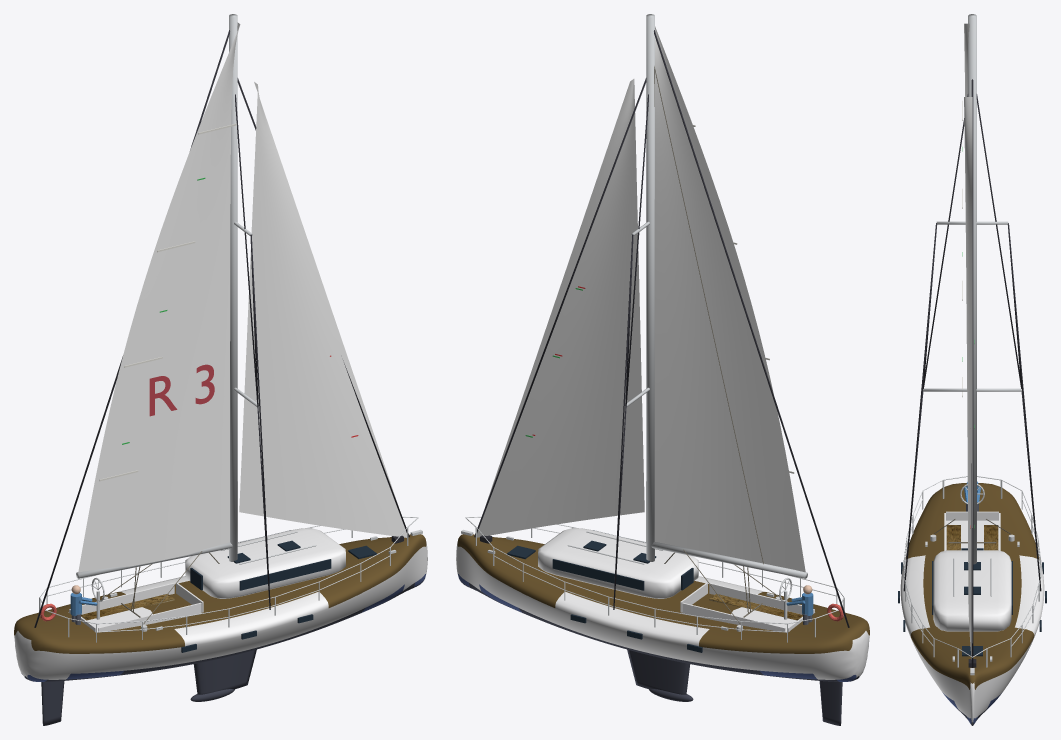
File: regatta_sloop.glb
3 views of the same model, side by side, from view 1: azimuth 30°, elevation 25°; view 2: azimuth 150°, elevation 25°; view 3: azimuth 270°, elevation 25° (orthographic).
Parts seen in each view (by area): view 1: MainSail, Jib, Hull, Cabin, Mast, Rigging, Cockpit, Keel, Deck_Rails, Cabin_Glass, SailNumber, Rudder; view 2: MainSail, Jib, Hull, Cabin, Mast, Rigging, Cockpit, Keel, Deck_Rails, Cabin_Glass, Boom, Running_Rigging (+1 smaller); view 3: Hull, Cabin, Rigging, Jib, Mast, Deck_Rails, Cockpit, Cabin_Glass, Spreaders, MainSail, Deck_Fittings.
Boxes of the visible parts, bbox=[...] form: MainSail: bbox=[78, 22, 240, 572]; Jib: bbox=[239, 82, 406, 537]; Hull: bbox=[14, 534, 427, 681]; Cabin: bbox=[185, 528, 345, 598]; Mast: bbox=[229, 14, 237, 561]; Rigging: bbox=[34, 30, 409, 627]; Cockpit: bbox=[69, 583, 203, 632]; Keel: bbox=[193, 649, 256, 694]; Deck_Rails: bbox=[39, 516, 418, 642]; Cabin_Glass: bbox=[190, 530, 376, 590]; SailNumber: bbox=[149, 364, 214, 416]; Rudder: bbox=[41, 681, 64, 725]; MainSail: bbox=[646, 26, 805, 572]; Jib: bbox=[477, 79, 644, 537]; Hull: bbox=[456, 534, 869, 681]; Cabin: bbox=[538, 528, 698, 598]; Mast: bbox=[646, 14, 654, 561]; Rigging: bbox=[474, 30, 849, 627]; Cockpit: bbox=[680, 583, 814, 632]; Keel: bbox=[627, 649, 690, 694]; Deck_Rails: bbox=[465, 516, 844, 642]; Cabin_Glass: bbox=[507, 530, 693, 590]; Boom: bbox=[651, 542, 807, 578]; Running_Rigging: bbox=[654, 66, 777, 623]; Hull: bbox=[900, 483, 1044, 725]; Cabin: bbox=[933, 550, 1011, 631]; Rigging: bbox=[903, 79, 1041, 667]; Jib: bbox=[964, 97, 972, 659]; Mast: bbox=[968, 14, 976, 564]; Deck_Rails: bbox=[903, 476, 1041, 667]; Cockpit: bbox=[944, 511, 1000, 550]; Cabin_Glass: bbox=[932, 548, 1012, 656]; Spreaders: bbox=[923, 221, 1021, 391]; MainSail: bbox=[964, 23, 969, 96]; Deck_Fittings: bbox=[925, 541, 1019, 675].
Bounding box in the file's own units: 13.86 × 22.08 × 4.36.
Materials: 18 (1 with a texture image).
